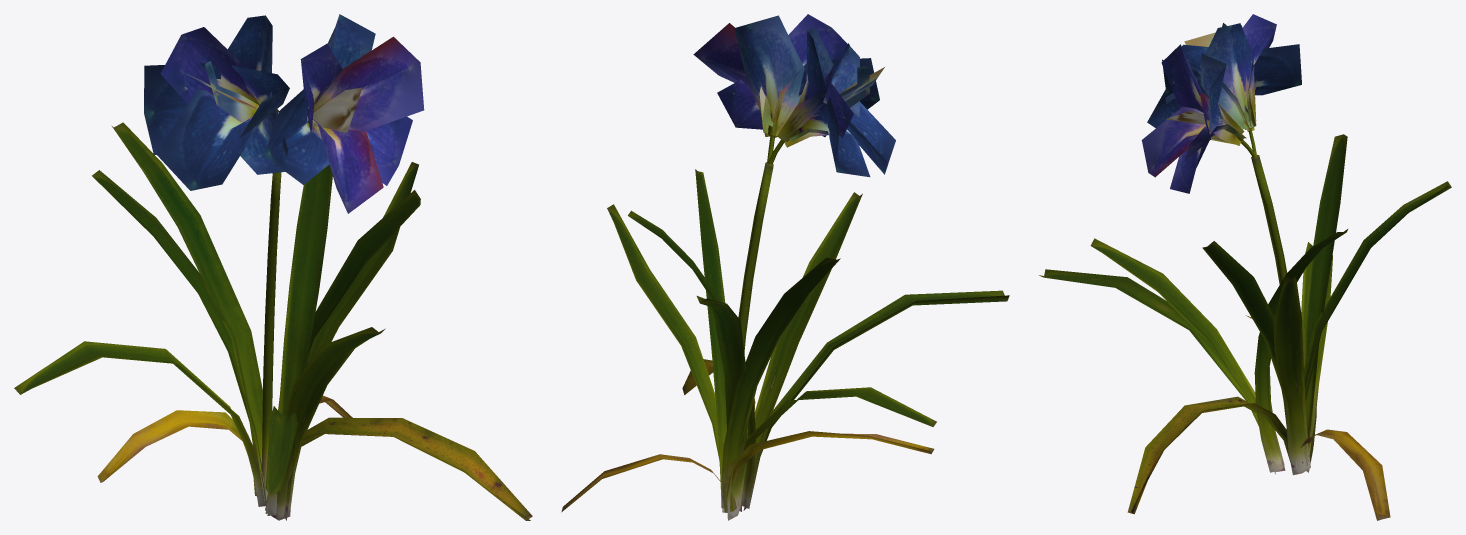
The model's file is Amaryllis_OG_normal_lightblue.glb.
3 views of the same model, side by side, from view 1: azimuth 30°, elevation 25°; view 2: azimuth 150°, elevation 25°; view 3: azimuth 270°, elevation 25° (orthographic). The views are drawn at different scales.
Parts seen in each view (by area): view 1: og; view 2: og; view 3: og.
Boxes of the visible parts, bbox=[...] form: og: bbox=[14, 14, 532, 520]; og: bbox=[561, 14, 1009, 520]; og: bbox=[1039, 14, 1451, 520].
Size of the model in its own units: 1.36 by 1.74 by 1.51.
Materials: 1 (1 with a texture image).
